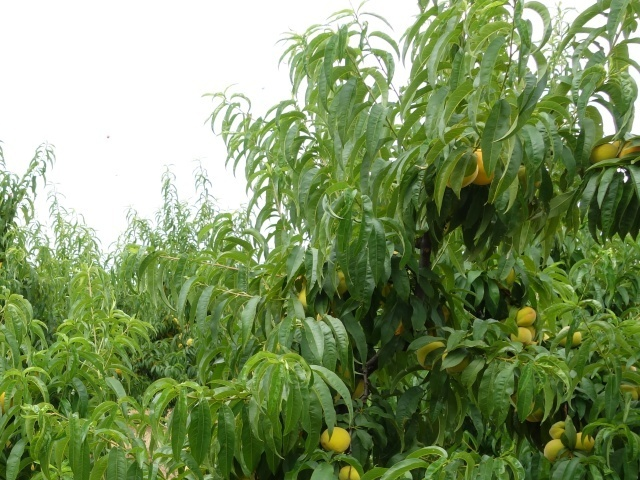peach: (464, 148, 502, 188), (446, 149, 482, 189), (411, 337, 451, 372), (317, 423, 353, 457), (586, 138, 620, 171), (608, 132, 639, 164), (537, 435, 569, 463), (546, 417, 577, 444), (554, 325, 587, 350), (504, 323, 535, 347), (568, 430, 599, 454), (512, 303, 540, 328), (334, 463, 363, 480)
